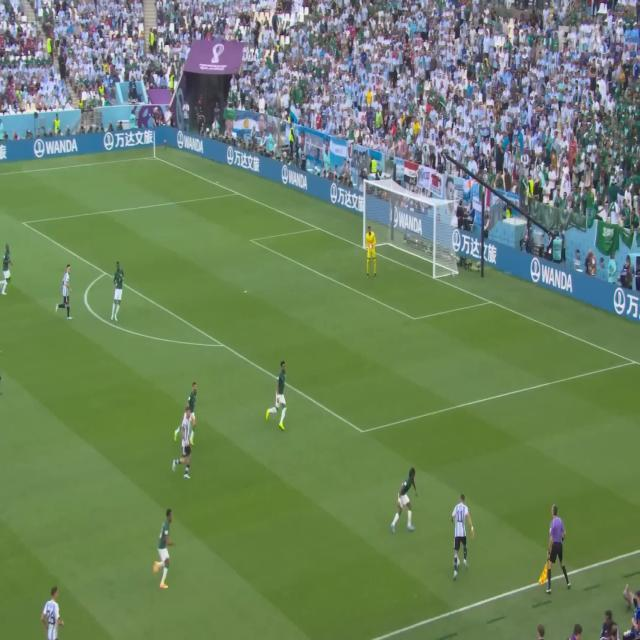football: (240, 282, 256, 296)
